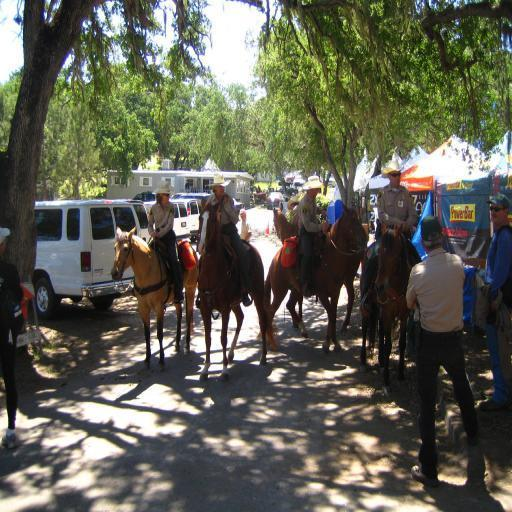horse: (261, 200, 367, 356), (197, 200, 279, 382), (110, 224, 198, 371), (274, 202, 355, 326), (364, 220, 422, 378)
